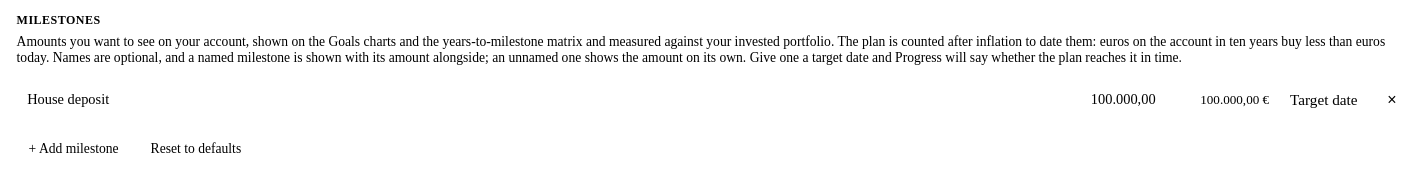
Test: MilestonesSetting › reads the amount by the currency format › goes back to the saved amount for text with no digit in it
Replace the text in the field named "Milestone amount" with "lots" at (1136, 100), box [1080, 82, 1192, 117]
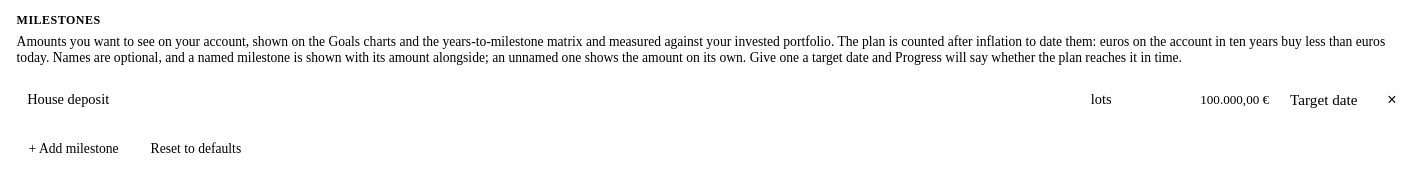
Leave the field named "Milestone amount", box [1080, 82, 1192, 117]
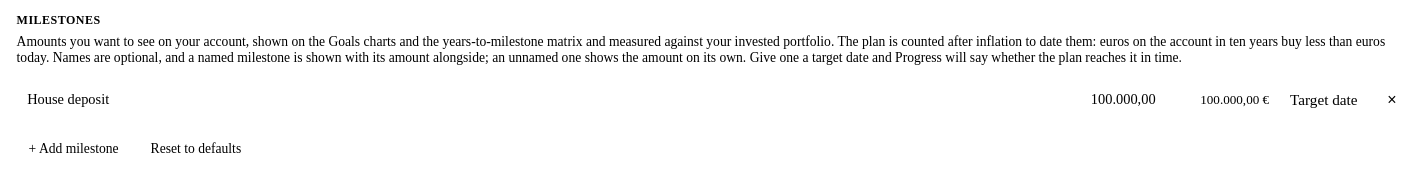
Expected: the field named "Milestone amount" holds "100.000,00", [1080, 82, 1192, 117]
